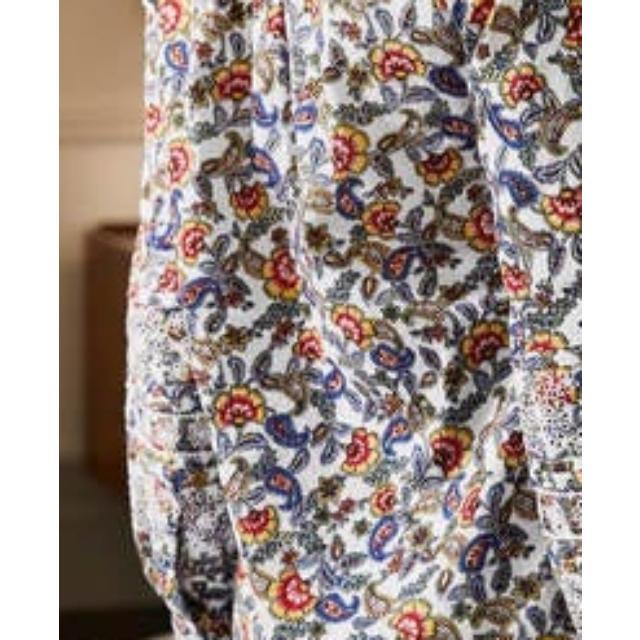cotton: (87, 0, 581, 640)
